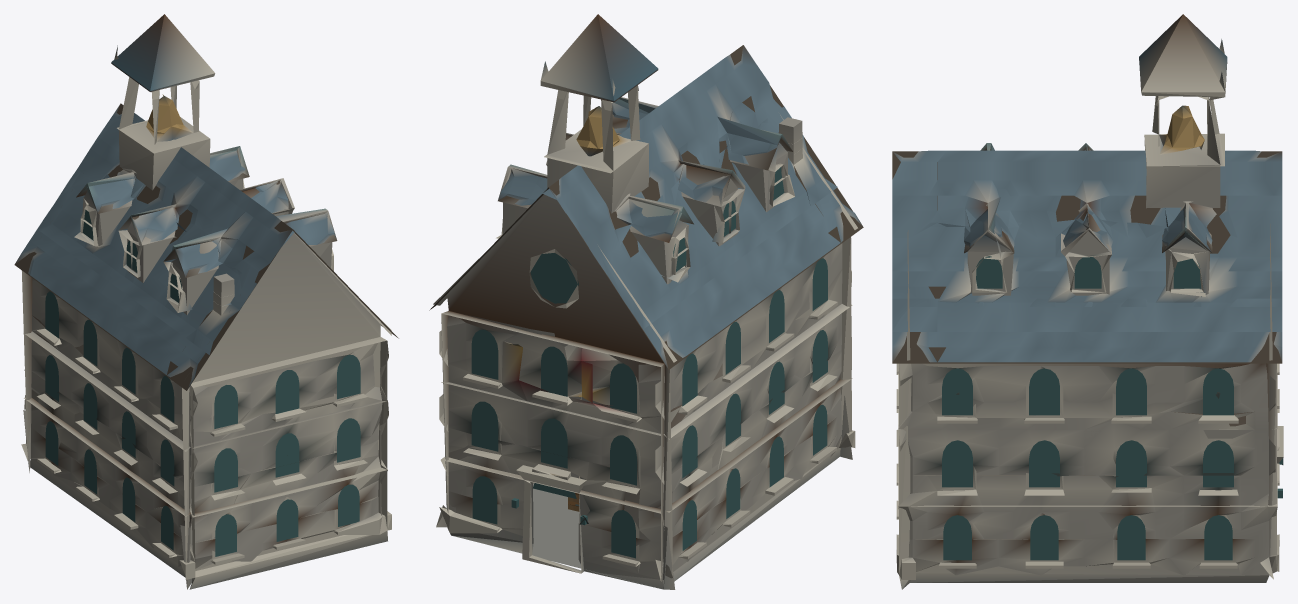
Rendered from TownHall.glb.
3 renders of one model, left to right at view 1: azimuth 30°, elevation 25°; view 2: azimuth 150°, elevation 25°; view 3: azimuth 270°, elevation 25°, orthographic. The views are drawn at different scales.
Visible parts, largest first — view 1: TownHall_P0_LOD1, TownHallGlass_P0_LOD1; view 2: TownHall_P0_LOD1, TownHallGlass_P0_LOD1; view 3: TownHall_P0_LOD1, TownHallGlass_P0_LOD1.
Part boxes in pixels (box(x1,y1,x2,y2)): TownHall_P0_LOD1: box(14, 14, 398, 589); TownHallGlass_P0_LOD1: box(45, 210, 360, 556); TownHall_P0_LOD1: box(429, 14, 863, 589); TownHallGlass_P0_LOD1: box(471, 167, 827, 558); TownHall_P0_LOD1: box(892, 14, 1283, 589); TownHallGlass_P0_LOD1: box(942, 256, 1282, 560).
Bounding box in the file's own units: 10.26 × 21.18 × 14.42.
